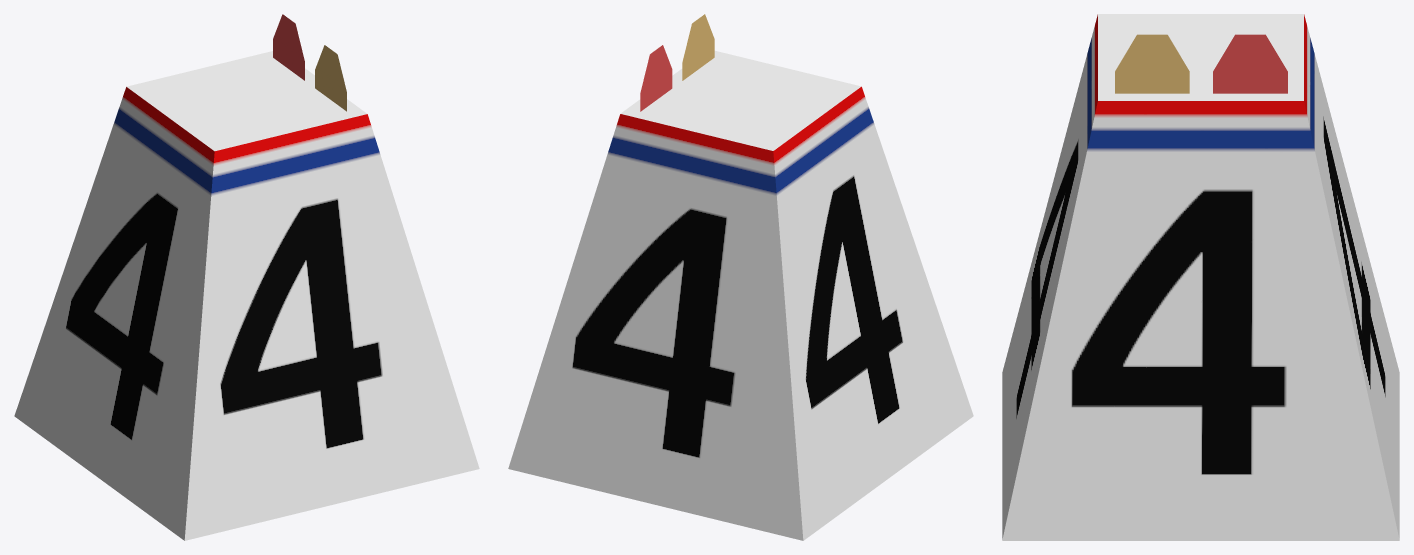
File: Marker_Line4.FBX
3 renders of one model, left to right at view 1: azimuth 30°, elevation 25°; view 2: azimuth 150°, elevation 25°; view 3: azimuth 270°, elevation 25°, orthographic. The views are drawn at different scales.
Parts seen in each view (by area): view 1: Marker_Line4; view 2: Marker_Line4; view 3: Marker_Line4.
Boxes of the visible parts, x1,y1,x2,y2 form: Marker_Line4: (14, 14, 479, 540); Marker_Line4: (508, 14, 973, 540); Marker_Line4: (1002, 14, 1399, 540).
Bounding box in the file's own units: 6.76 × 8.6 × 6.76.
